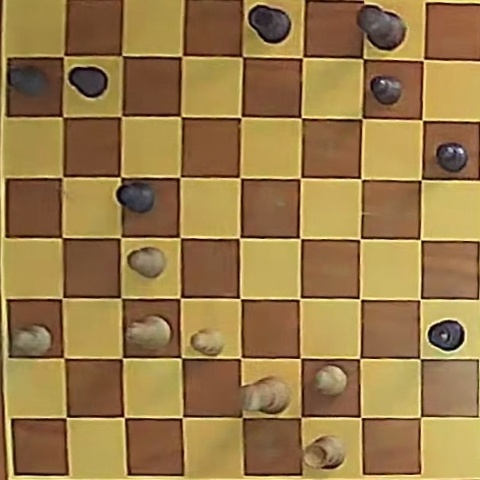black-king: (357, 5, 406, 51)
black-pawn: (68, 66, 108, 99), (8, 65, 48, 97), (117, 182, 155, 213), (436, 142, 467, 172), (371, 76, 402, 105)
black-rook: (248, 5, 291, 44), (428, 320, 464, 352), (7, 67, 20, 88)
white-bishop: (127, 315, 171, 350)
white-king: (240, 376, 290, 414)
white-pawn: (11, 325, 52, 356), (127, 246, 166, 278), (314, 365, 347, 395), (191, 328, 225, 356)
white-rook: (304, 435, 345, 469)
